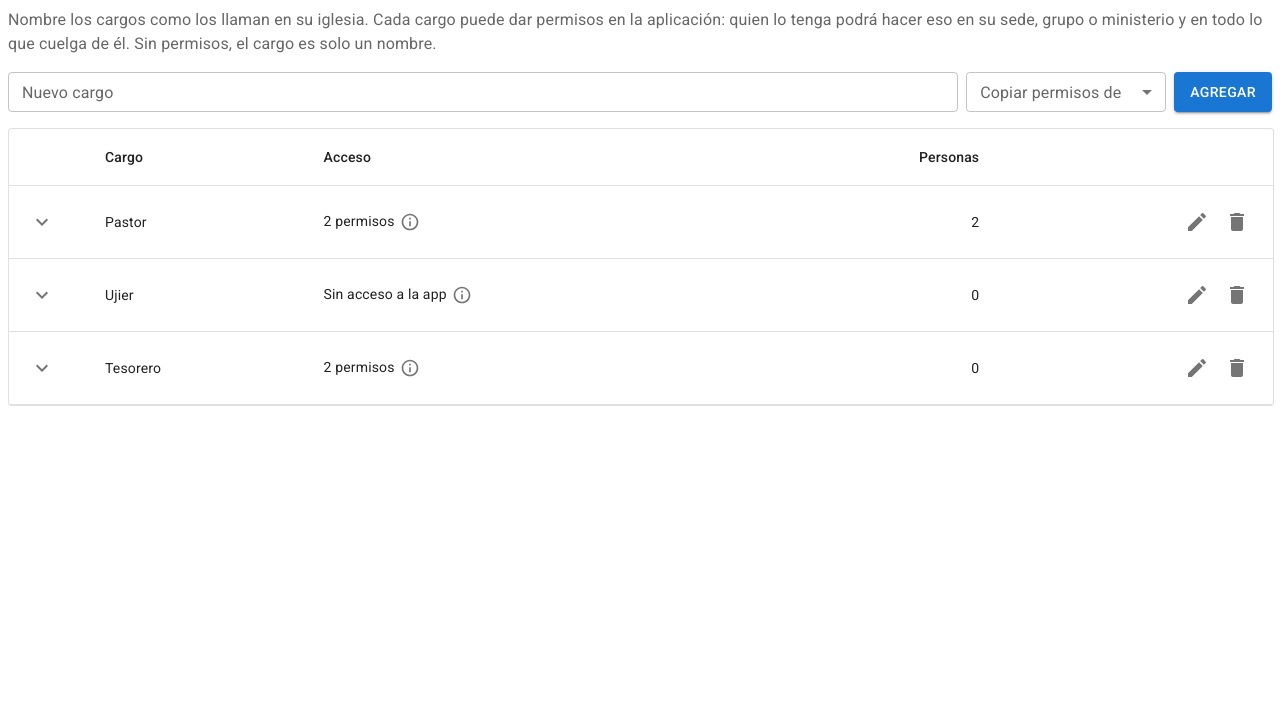
Test case: PositionsManager › shows the permissions that come from a role as fixed
Click the button named "Abrir Tesorero". click: (42, 368)
box: x1=25 y1=351 x2=59 y2=385
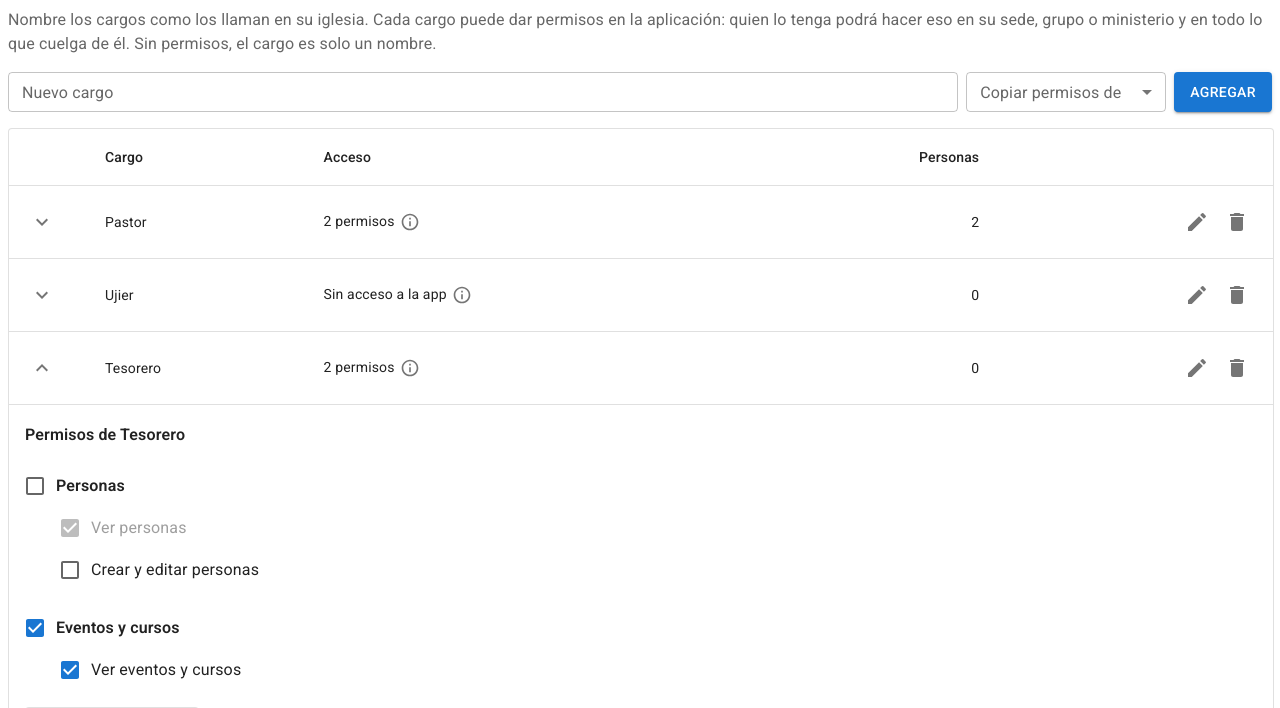
Expected: the checkbox labelled "Ver personas" is checked, x1=58 y1=516 x2=187 y2=540
Expected: the checkbox labelled "Ver personas" is disabled, x1=58 y1=516 x2=187 y2=540
